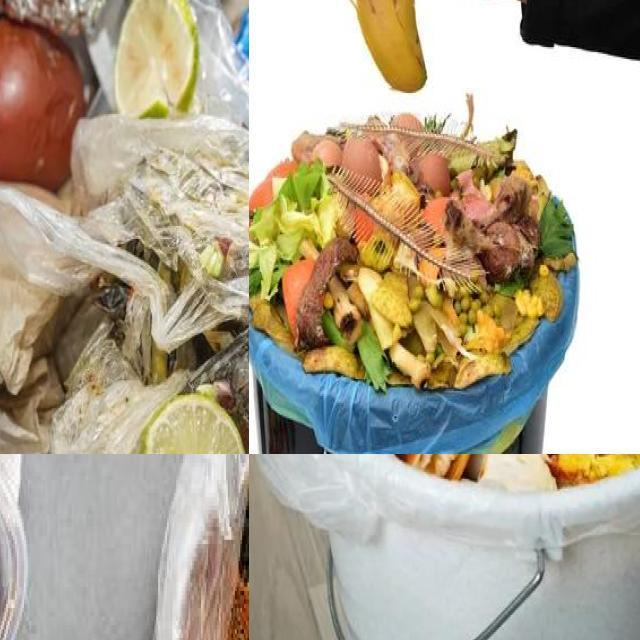Garbage: (0, 7, 249, 454), (249, 108, 578, 388), (185, 0, 249, 128)
Plastic: (186, 0, 249, 134)
contaminated_waste: (0, 116, 249, 454)
